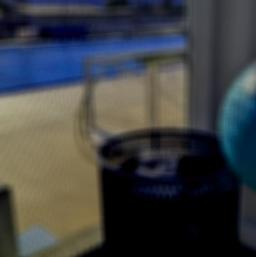algae: (219, 40, 256, 197)
